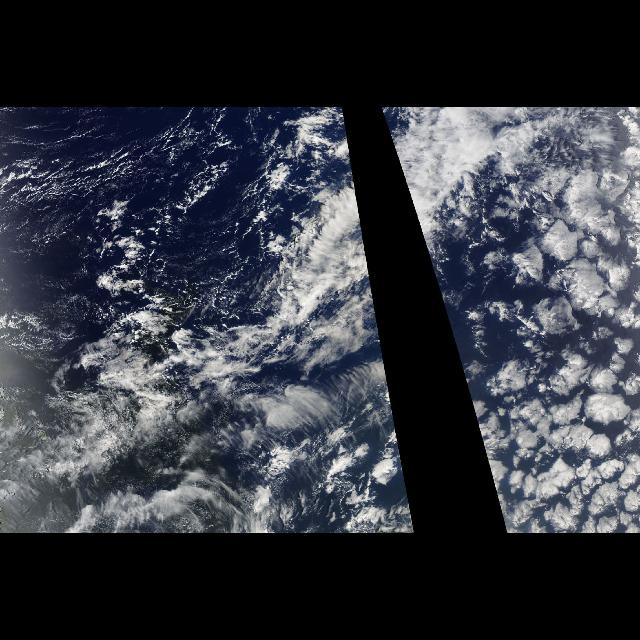Fish: (187, 113, 387, 375), (380, 113, 476, 375)
Flower: (432, 162, 640, 532)
Sugar: (0, 109, 274, 325)
